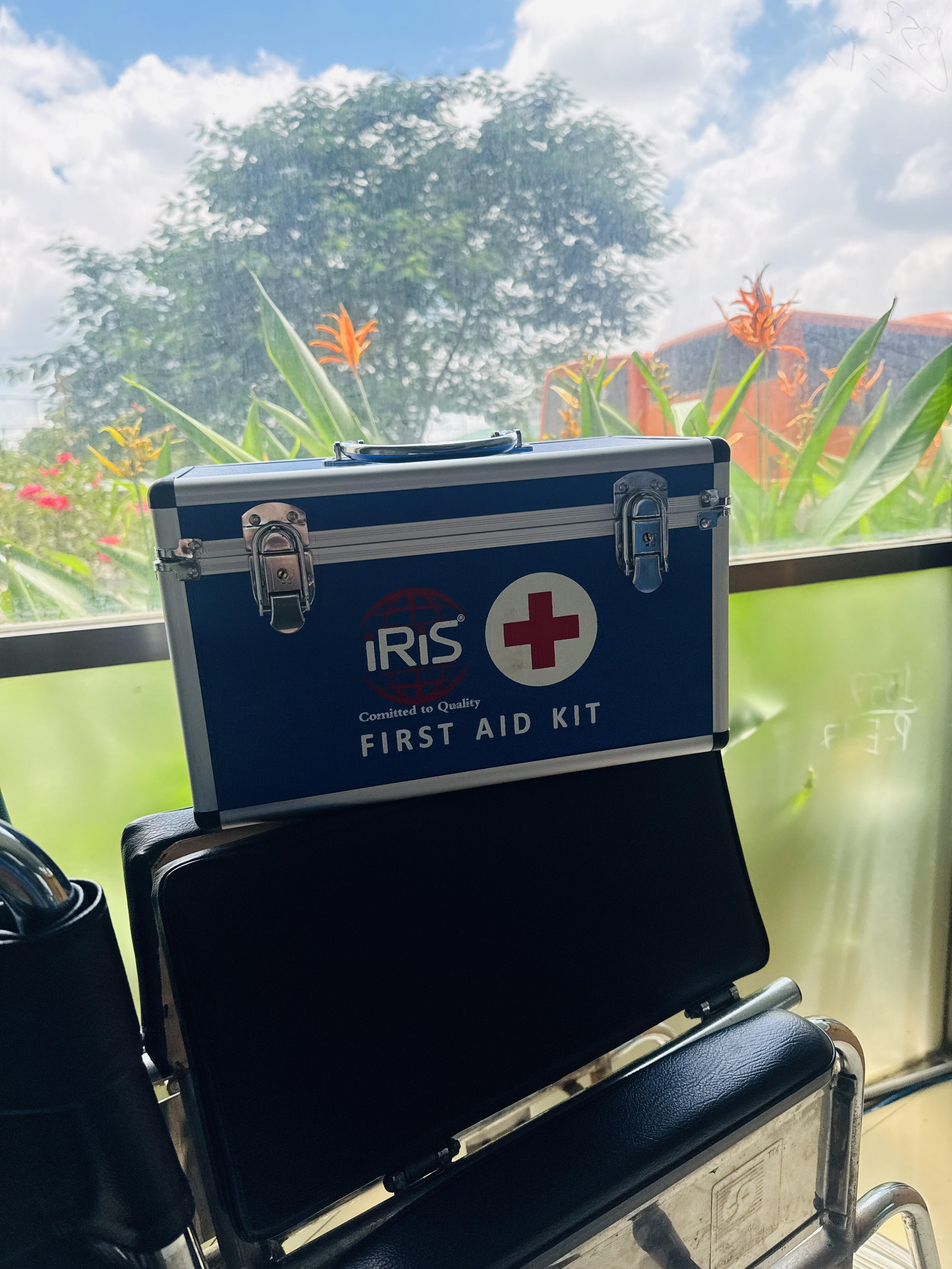FirstAidBox: (99, 406, 782, 844)
